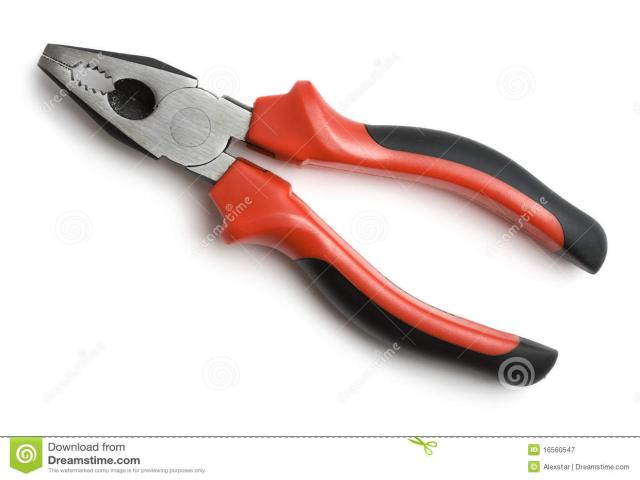Pliers: (39, 45, 606, 389)
